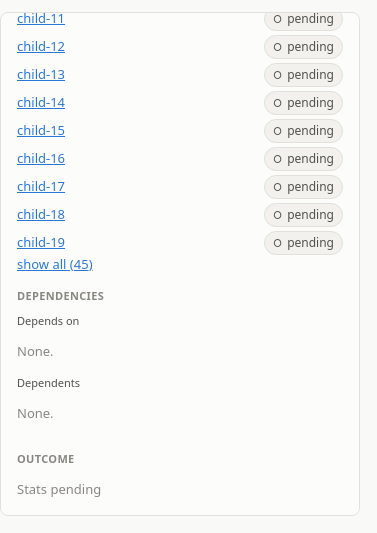
Test case: TaskDetailPanel (AC-5): children cap › shows 20 children and a 'show all (45)' toggle; clicking it reveals all 45
The image size is (377, 533).
(page scrolled)
Click the button "show all (45)" at (55, 264), box x1=17 y1=254 x2=92 y2=274
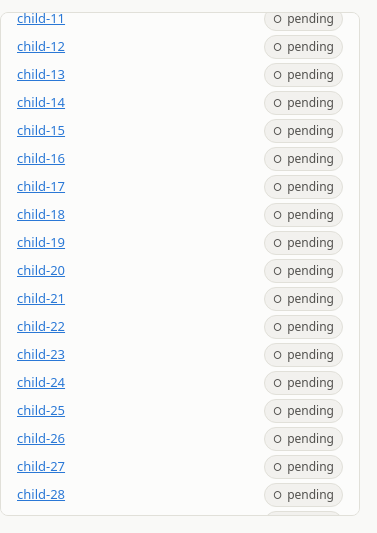
Check: the button "show all" is gone
